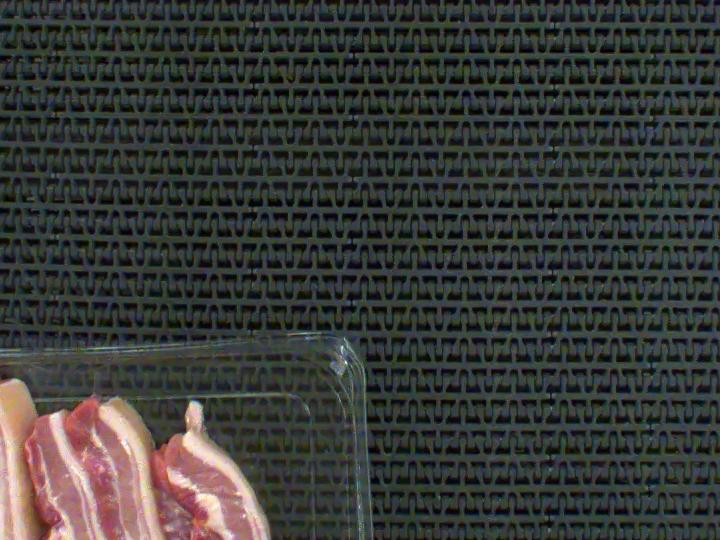packaging-error: (0, 323, 26, 408)
